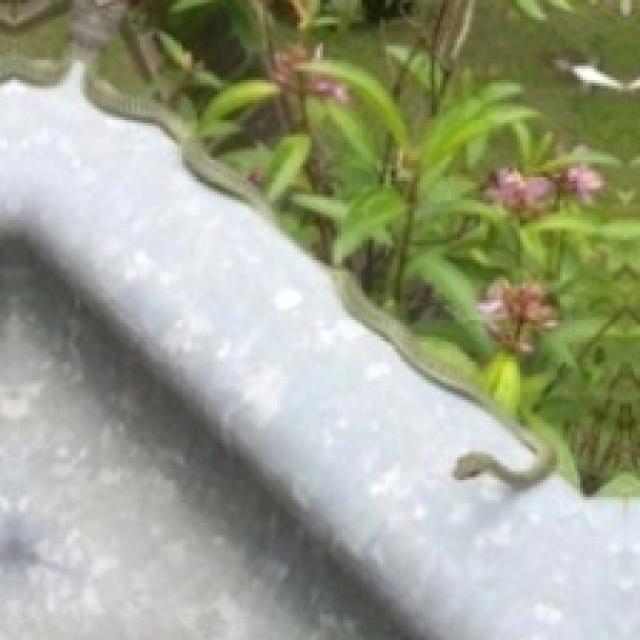paradise tree snake: (86, 0, 554, 486)
